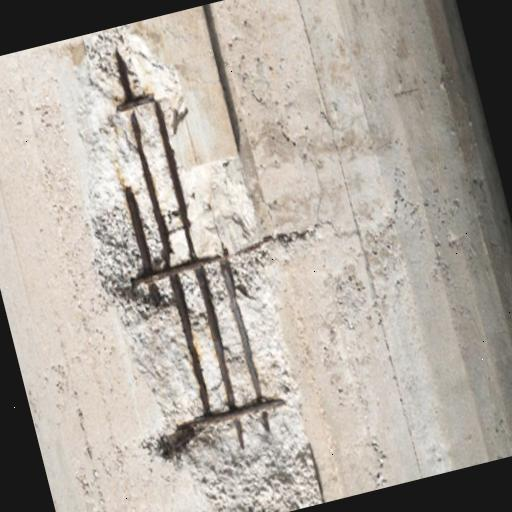spalling: (43, 3, 351, 512)
